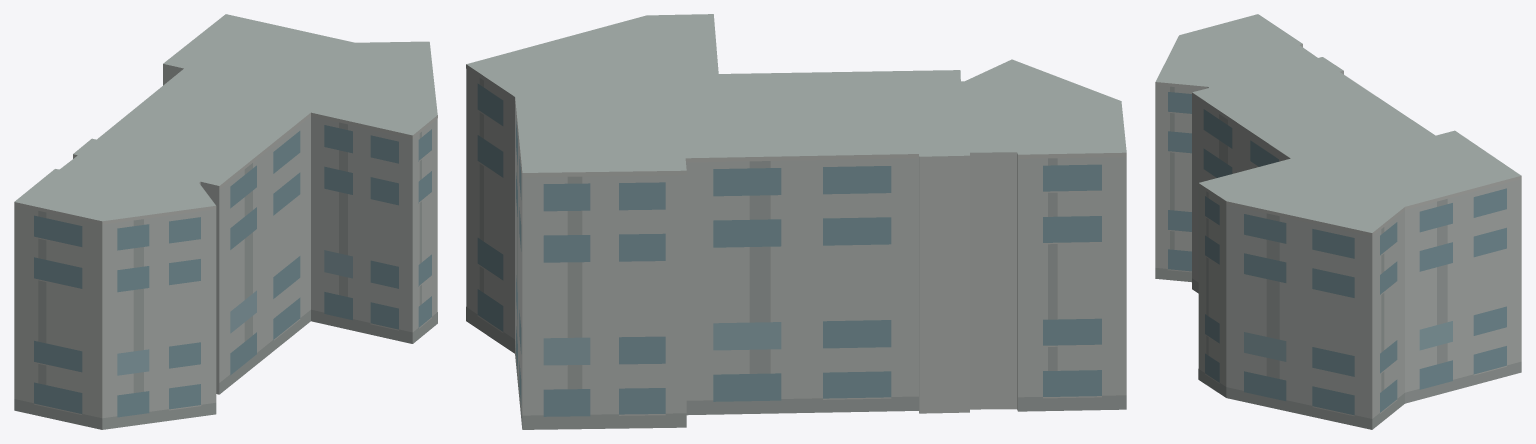
The model's file is survey-upis-32558606.glb.
The picture shows the model from 3 angles, left to right: view 1: azimuth 30°, elevation 25°; view 2: azimuth 150°, elevation 25°; view 3: azimuth 270°, elevation 25°; orthographic projection. The views are drawn at different scales.
Parts seen in each view (by area): view 1: survey-upis-32558606.tmp; view 2: survey-upis-32558606.tmp; view 3: survey-upis-32558606.tmp.
Boxes of the visible parts, box(x1,y1,x2,y2) form: survey-upis-32558606.tmp: box(14, 14, 437, 429); survey-upis-32558606.tmp: box(466, 14, 1126, 429); survey-upis-32558606.tmp: box(1155, 14, 1521, 429).
Bounding box in the file's own units: 34.63 × 14.5 × 24.45.
